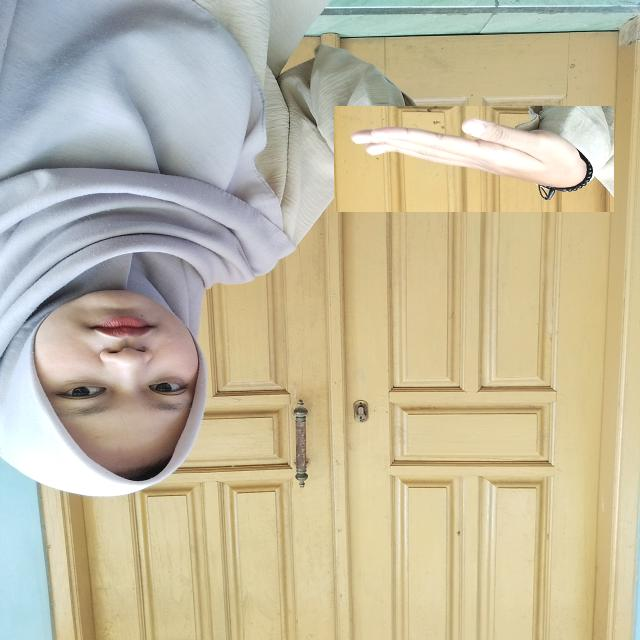adik: (334, 106, 614, 212)
